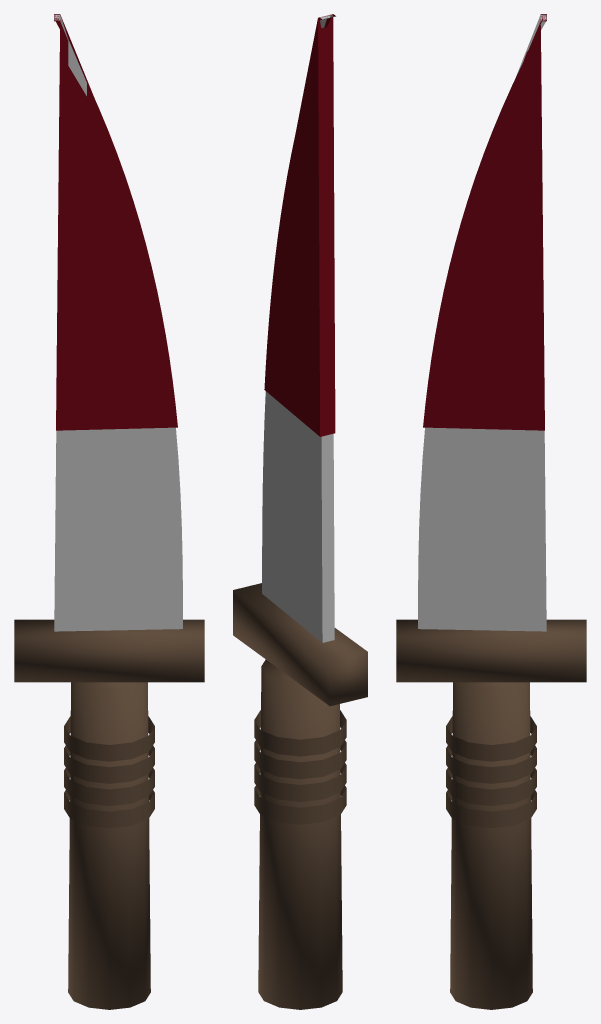
The model's file is faca_ritual.glb.
3 renders of one model, left to right at view 1: azimuth 90°, elevation 25°; view 2: azimuth 210°, elevation 25°; view 3: azimuth 270°, elevation 25°, orthographic. The views are drawn at different scales.
Parts seen in each view (by area): view 1: cabo, sangue, lamina; view 2: cabo, sangue, lamina; view 3: cabo, sangue, lamina.
Boxes of the visible parts, bbox=[...] form: cabo: bbox=[14, 619, 204, 1009]; sangue: bbox=[54, 14, 177, 430]; lamina: bbox=[54, 14, 182, 631]; cabo: bbox=[233, 583, 367, 1009]; sangue: bbox=[264, 14, 335, 436]; lamina: bbox=[262, 14, 334, 642]; cabo: bbox=[396, 619, 586, 1009]; sangue: bbox=[423, 14, 546, 430]; lamina: bbox=[418, 14, 546, 631].
Bounding box in the file's own units: 0.0296 × 0.351 × 0.062.
